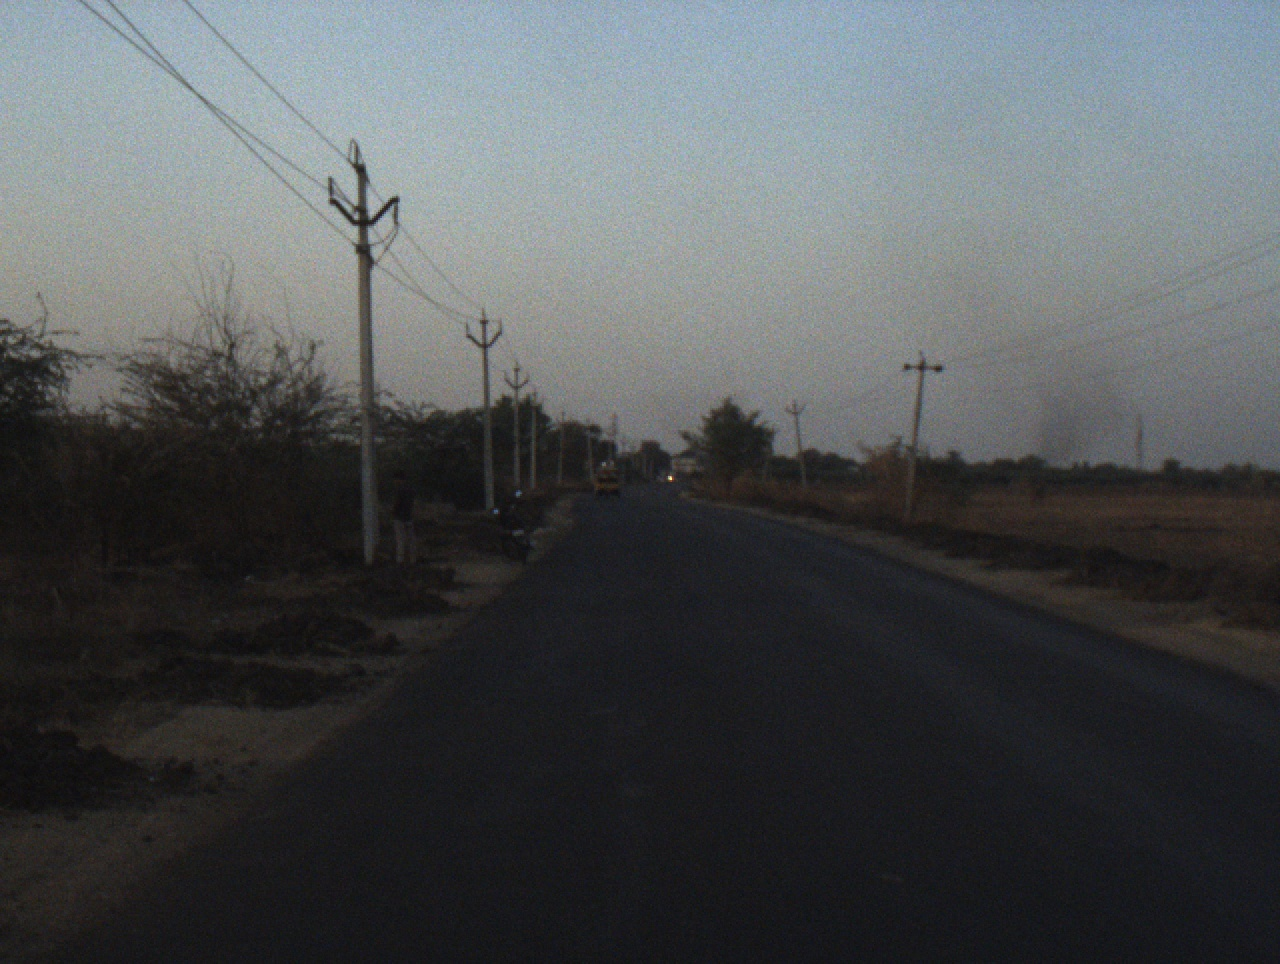autorickshaw: (587, 460, 625, 507)
motorcycle: (480, 486, 541, 569)
person: (383, 469, 424, 572)
vehicle fallback: (654, 467, 677, 487)
